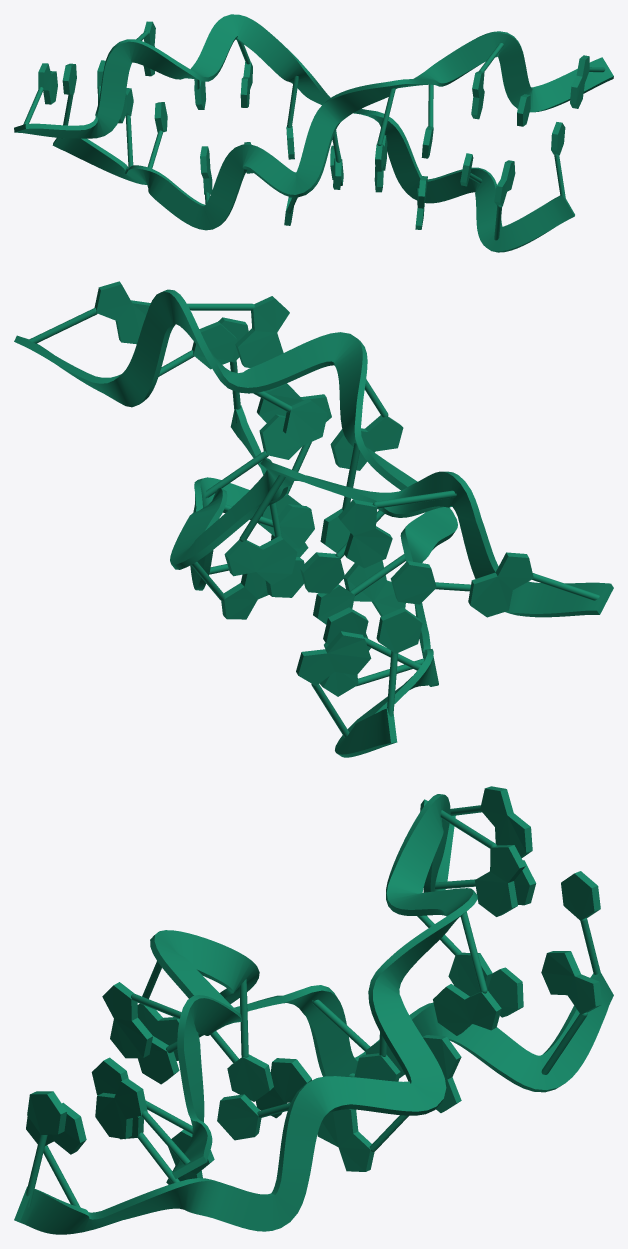
File: Z-DNA.glb
3 views of the same model, one above another, from view 1: azimuth 30°, elevation 25°; view 2: azimuth 150°, elevation 25°; view 3: azimuth 270°, elevation 25° (orthographic). The views are drawn at different scales.
Size of the model in its own units: 46.63 by 16 by 32.93.
